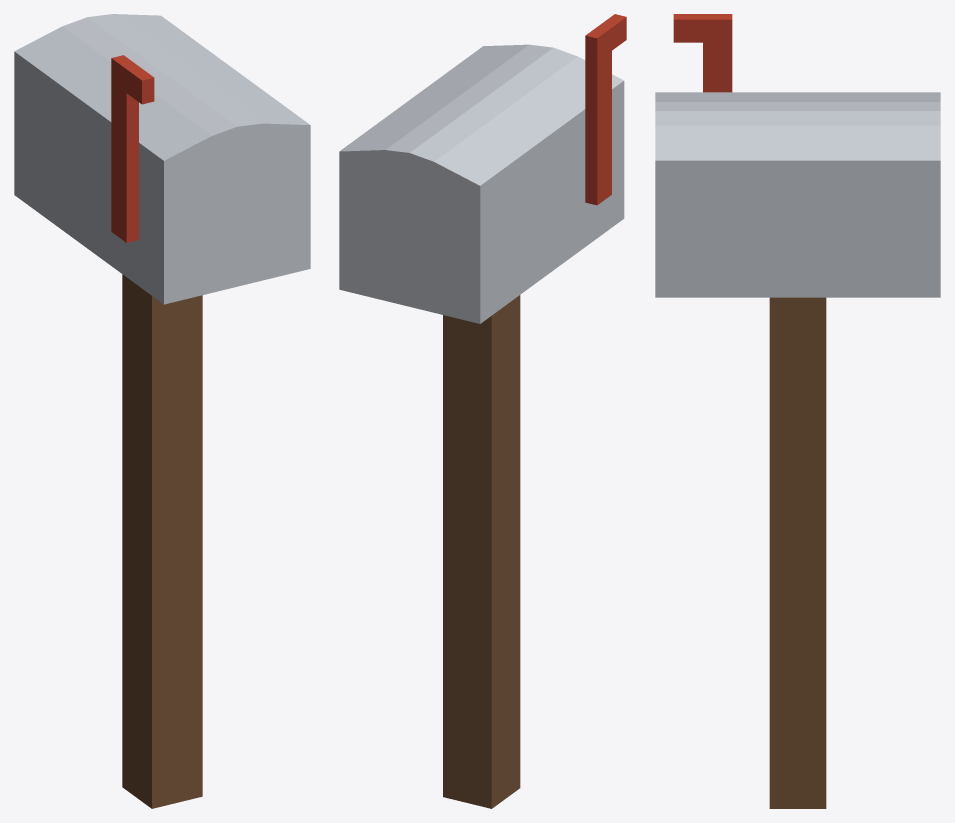
Rendered from Building_Objects_Mail_Box.fbx.
3 renders of one model, left to right at view 1: azimuth 30°, elevation 25°; view 2: azimuth 150°, elevation 25°; view 3: azimuth 270°, elevation 25°, orthographic. The views are drawn at different scales.
Parts seen in each view (by area): view 1: Building_Objects_Mail_Box; view 2: Building_Objects_Mail_Box; view 3: Building_Objects_Mail_Box.
Boxes of the visible parts, box(x1,y1,x2,y2) form: Building_Objects_Mail_Box: box(14, 14, 310, 808); Building_Objects_Mail_Box: box(339, 14, 626, 808); Building_Objects_Mail_Box: box(655, 14, 940, 808).
Bounding box in the file's own units: 27.84 × 131 × 45.41.
